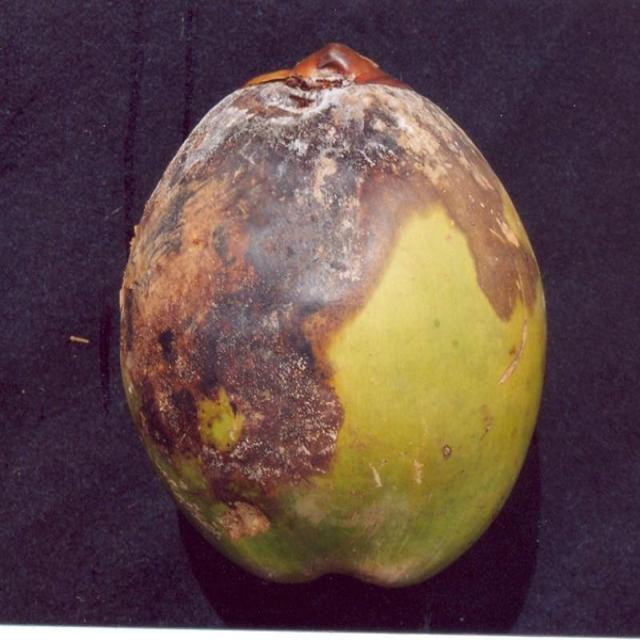damaged: (118, 45, 547, 592)
